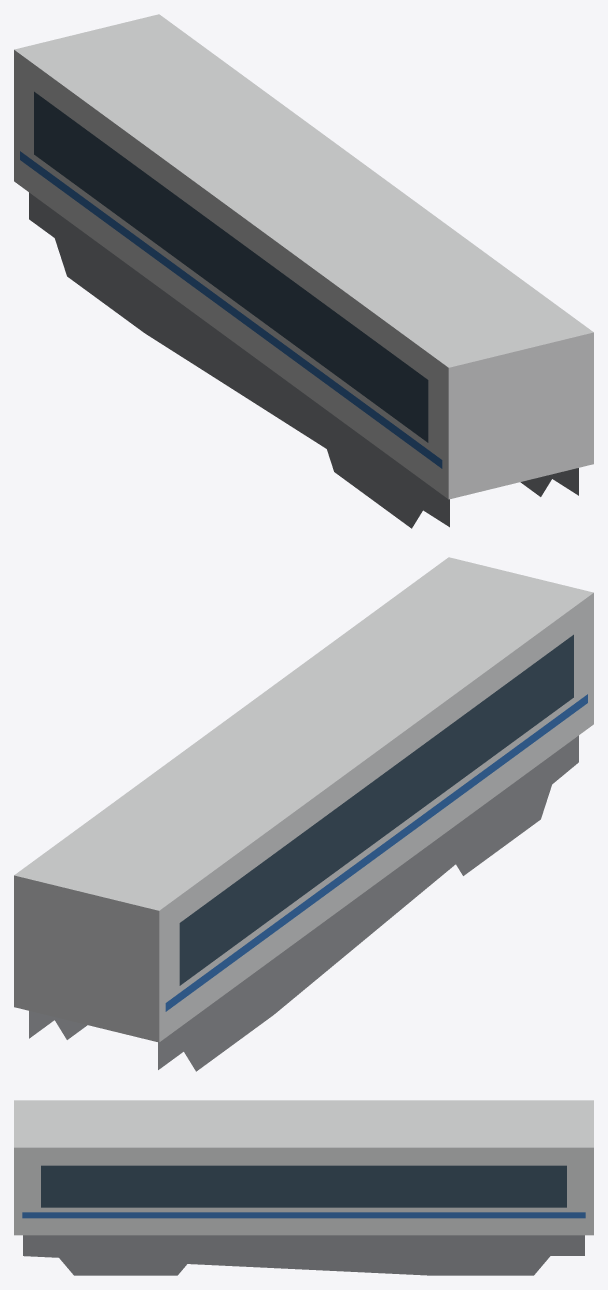
File: middle_far.fbx
3 renders of one model, top to bottom at view 1: azimuth 30°, elevation 25°; view 2: azimuth 150°, elevation 25°; view 3: azimuth 270°, elevation 25°, orthographic. The views are drawn at different scales.
Parts seen in each view (by area): view 1: 309_far; view 2: 309_far; view 3: 309_far.
Part boxes in pixels (left/top/right/bottom): 309_far: left=14, top=14, right=593, bottom=528; 309_far: left=14, top=557, right=593, bottom=1071; 309_far: left=14, top=1100, right=593, bottom=1275.
Bounding box in the file's own units: 2.71 × 3.48 × 14.
